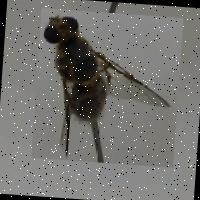Oriental-fruit-fly: (31, 6, 183, 166)
